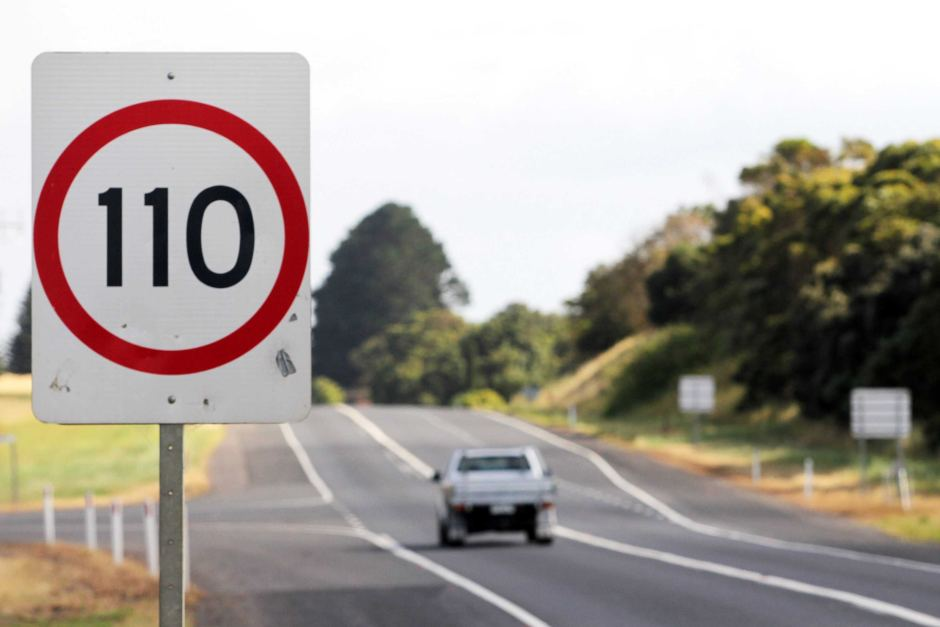Speed_limit_110km: (33, 99, 311, 377)
